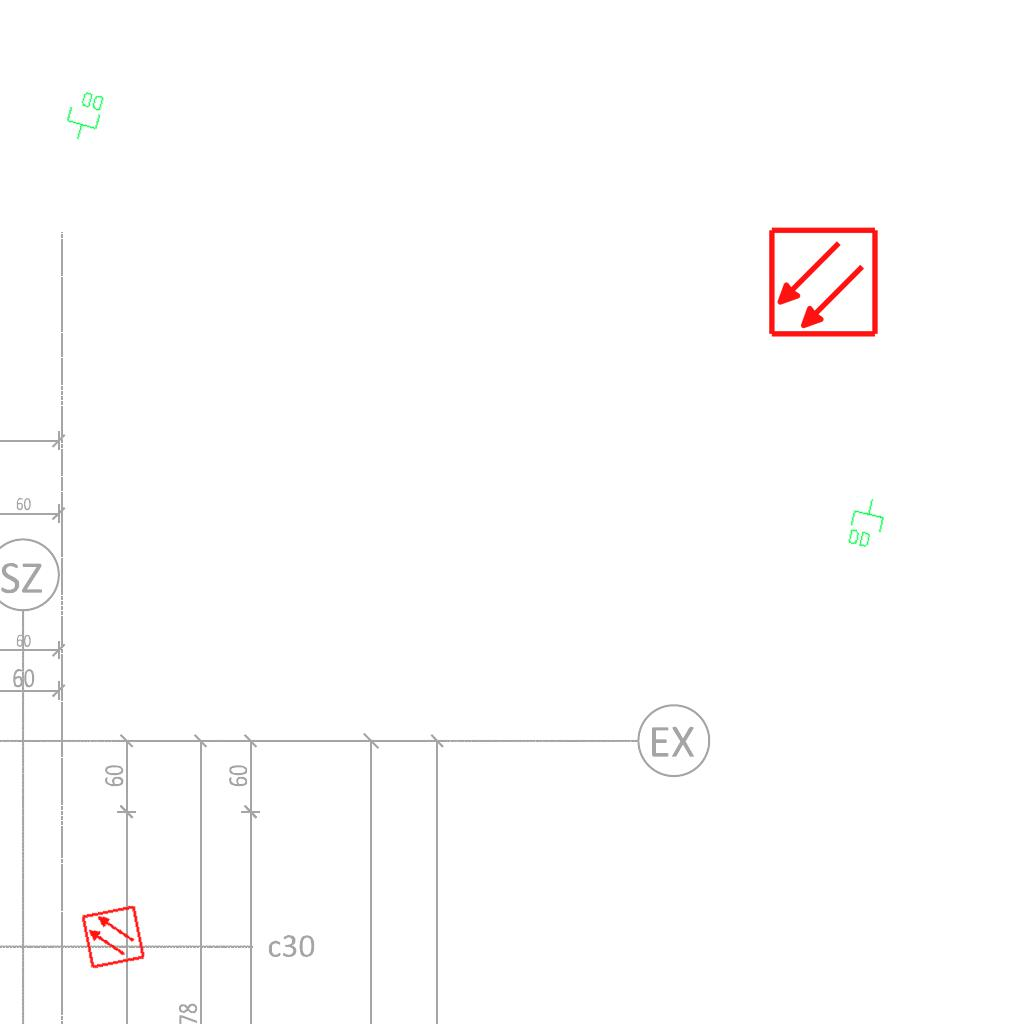Datenanschluss_zweifach: (61, 86, 108, 146), (844, 494, 889, 552)
RMO_Rauchmelder_optischer: (767, 226, 880, 339), (80, 904, 146, 970)
